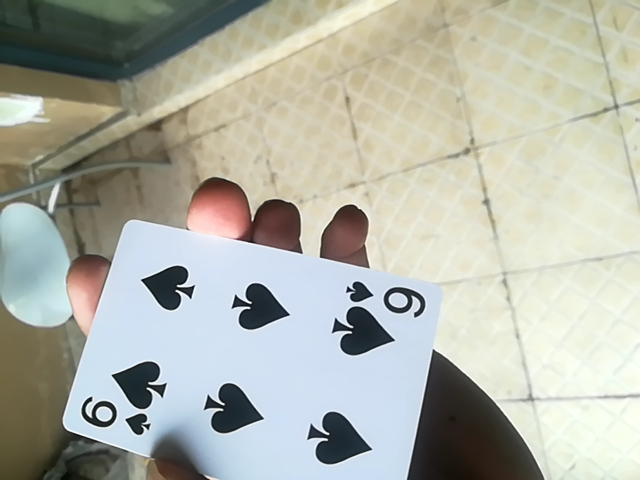ht 6: (60, 214, 445, 480)
